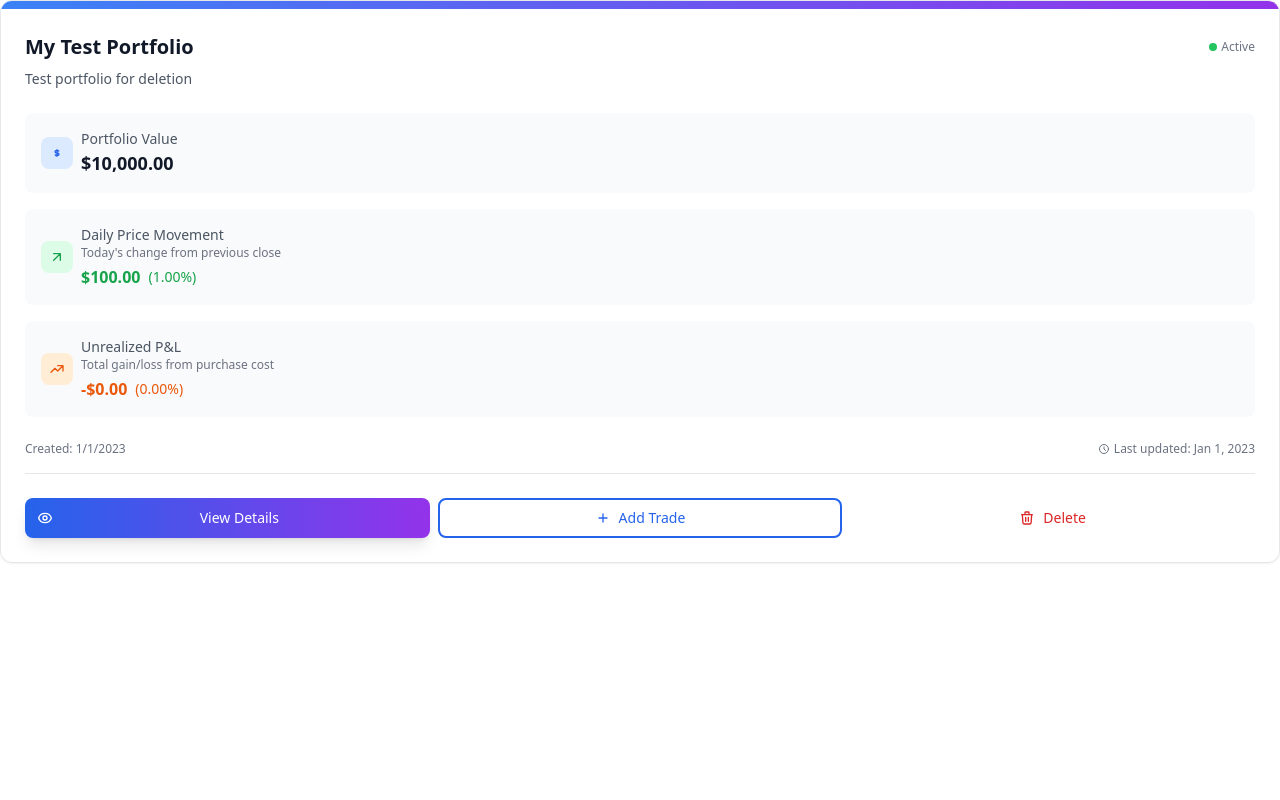
Test: PortfolioCard with Delete Functionality › should handle delete errors gracefully
# Open modal
Click the button "Delete". click: (1053, 518)
box: [850,498,1255,538]
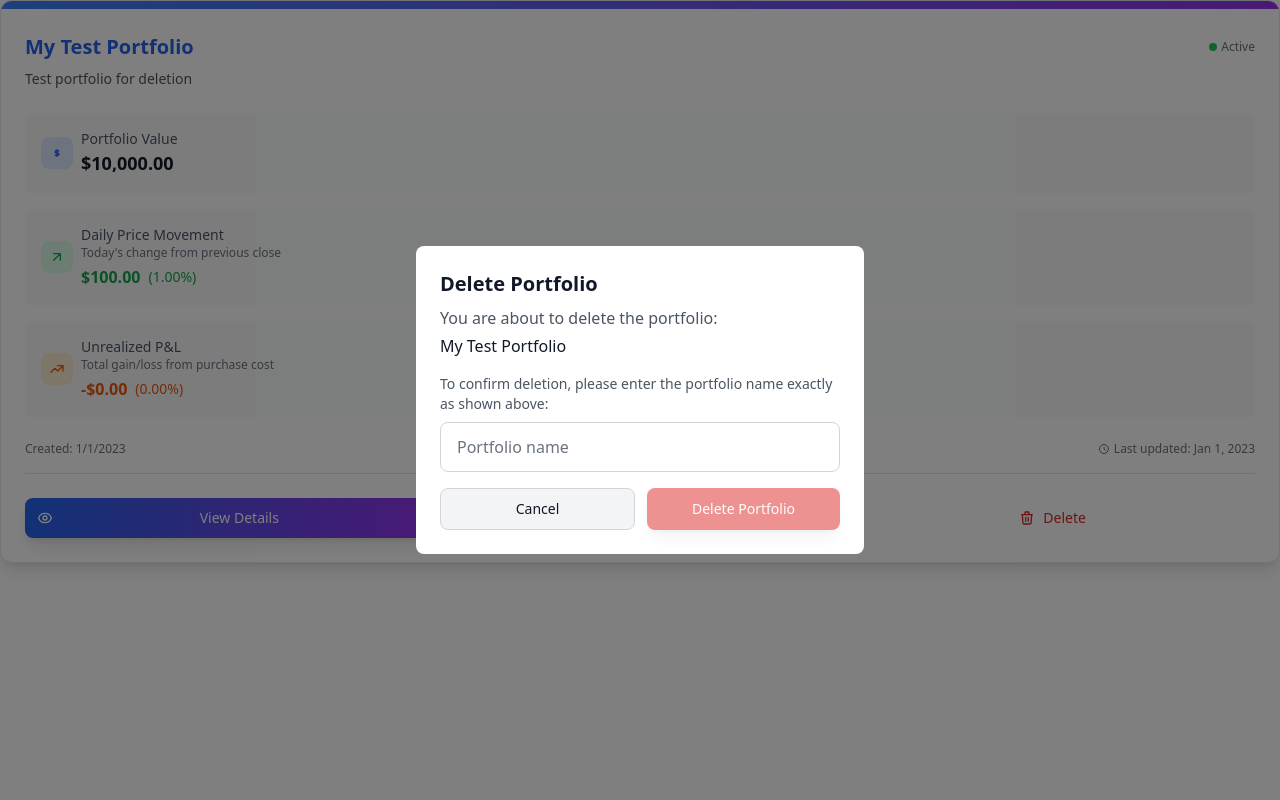
# Enter confirmation name
Type "My Test Portfolio" into the field with placeholder "Portfolio name". click: (640, 447)
box: [440,422,840,472]
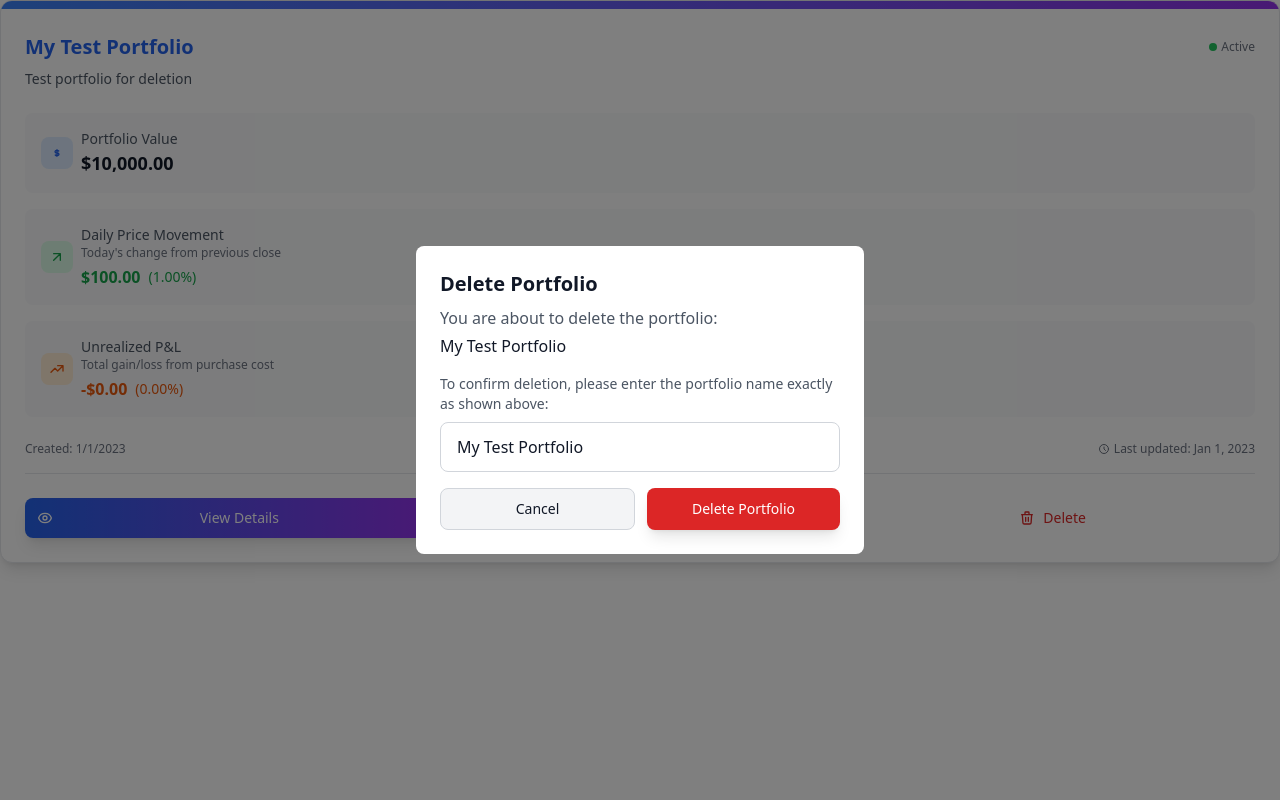
# Click delete
Click the button "Delete Portfolio". click: (744, 509)
box: [647,488,840,530]
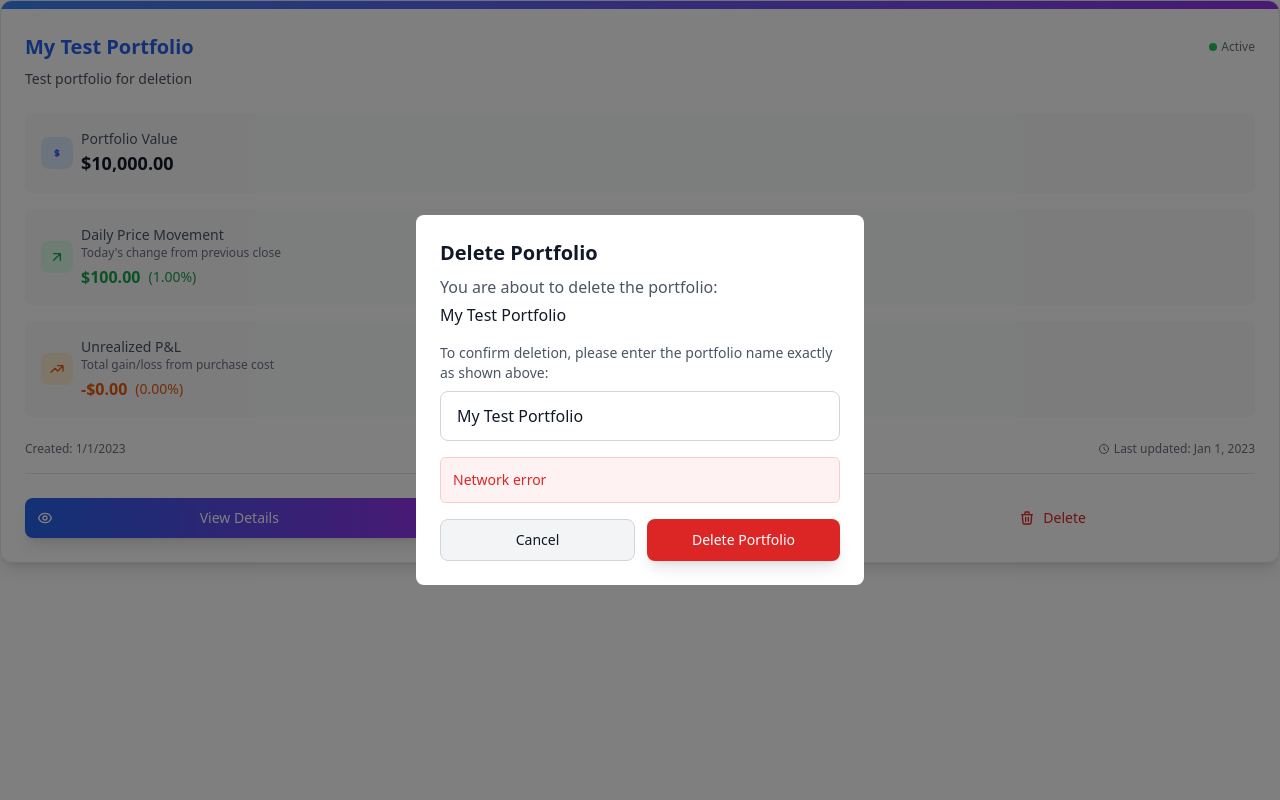
Expected: the text "Network error" is shown, [453,470,546,489]
